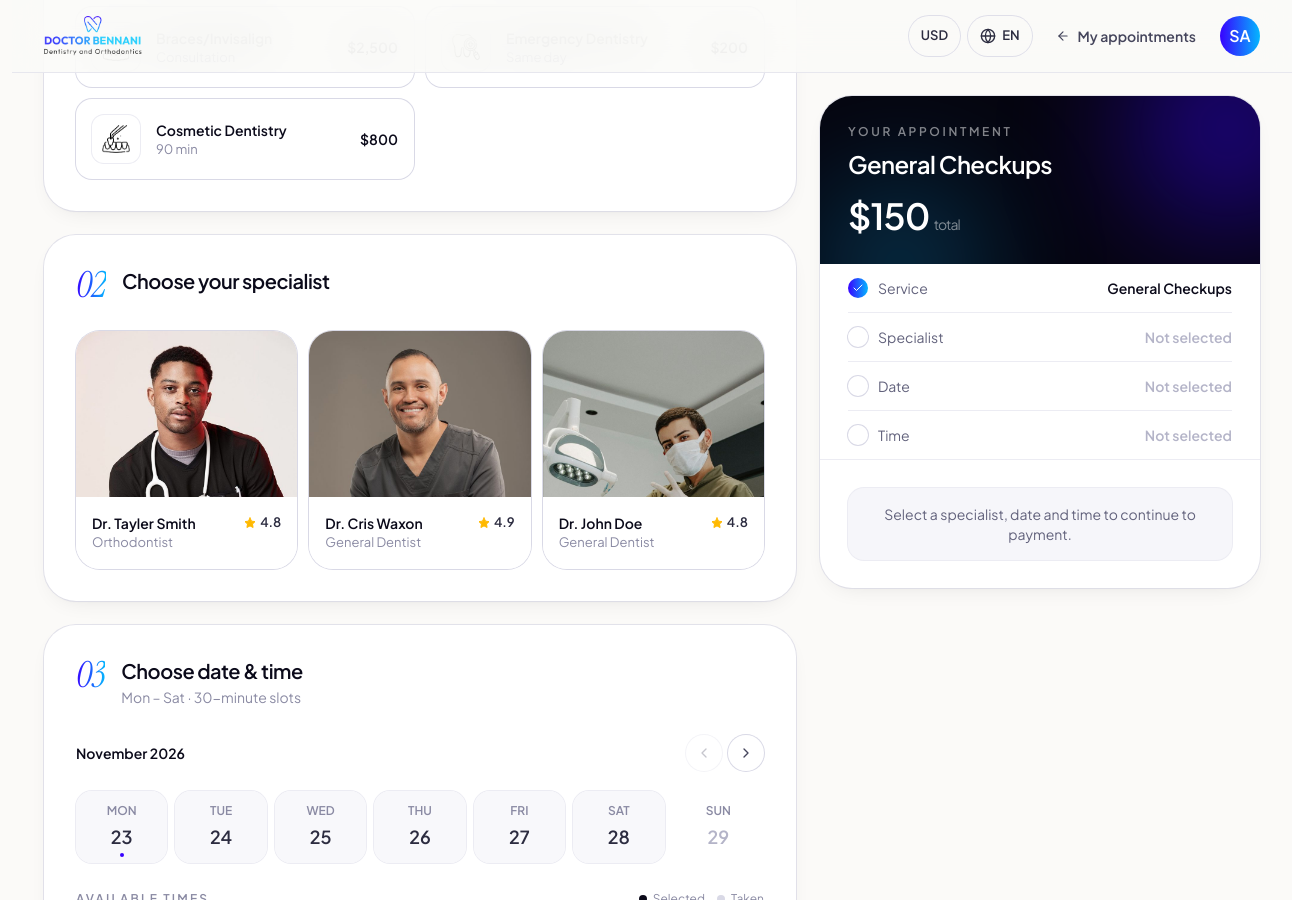
it: booking flow › asks the patient to pick again when the slot was just taken
The image size is (1292, 900).
(page scrolled)
Click the button "Dr. Cris Waxon General Dentist 4.9".
click(420, 450)  # box 309,331 -> 531,569
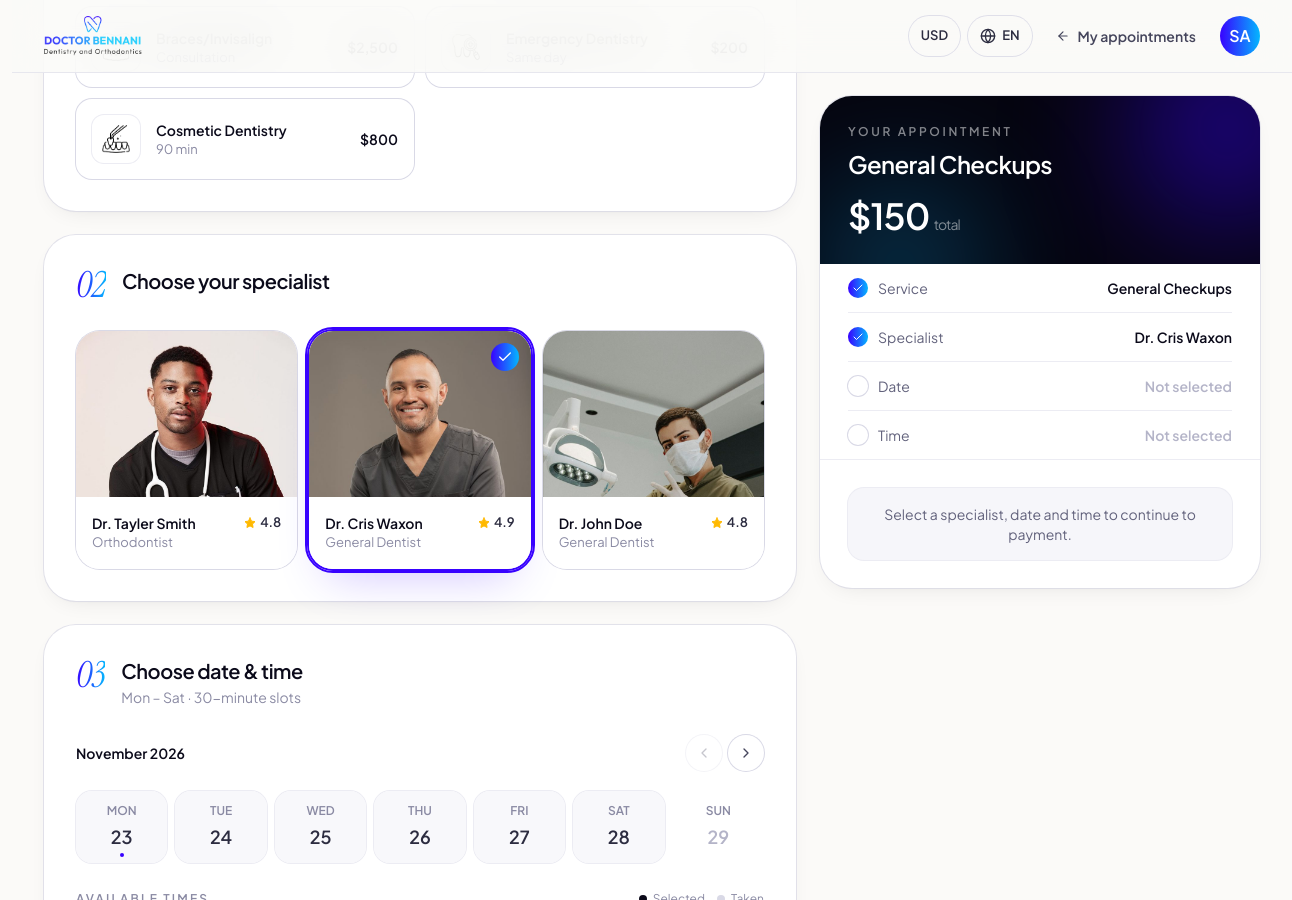
Click the button "Tue 24".
click(221, 827)  # box 175,791 -> 267,863
(page scrolled)
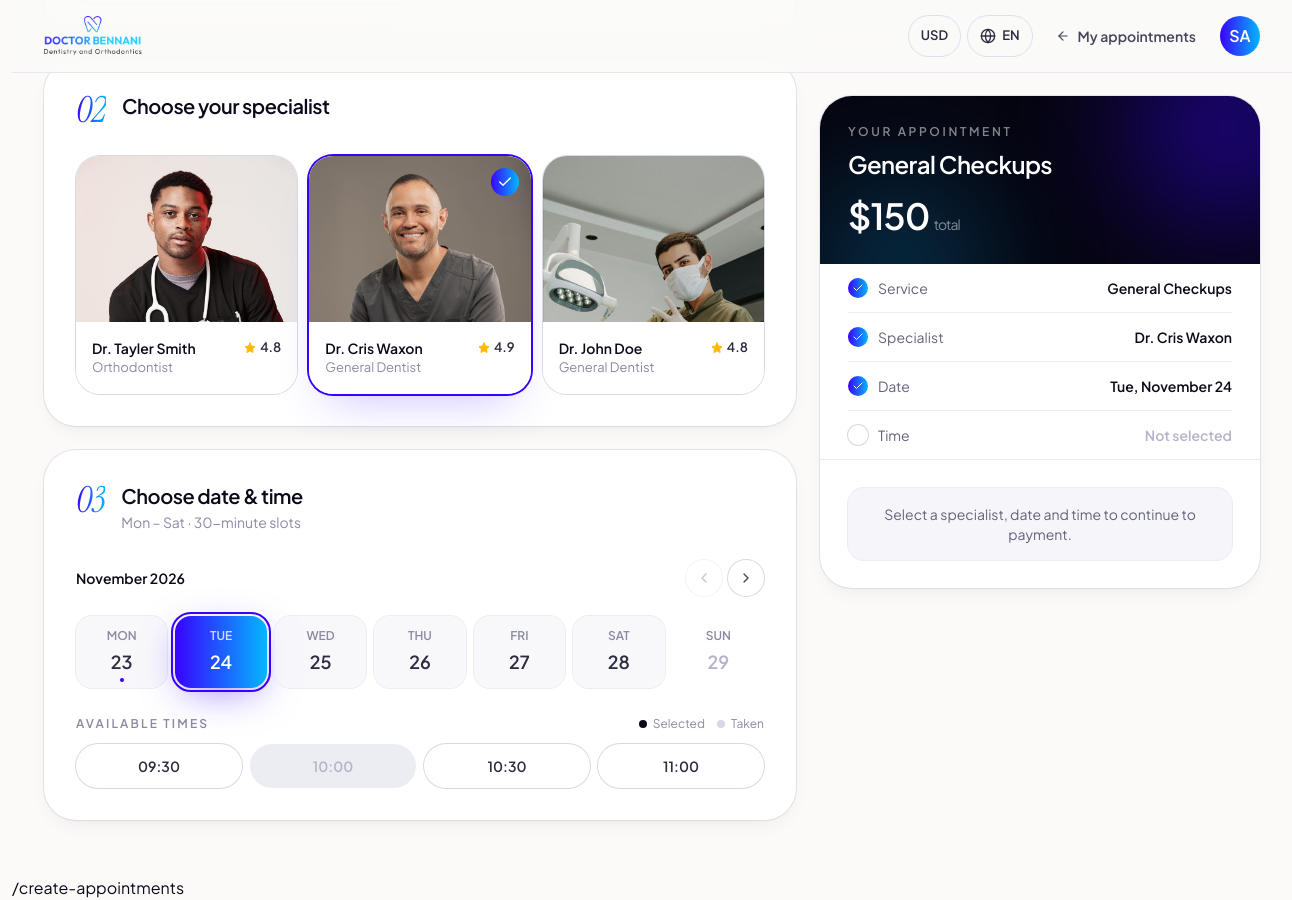
Click the button "10:30".
click(507, 766)  # box 424,744 -> 590,788
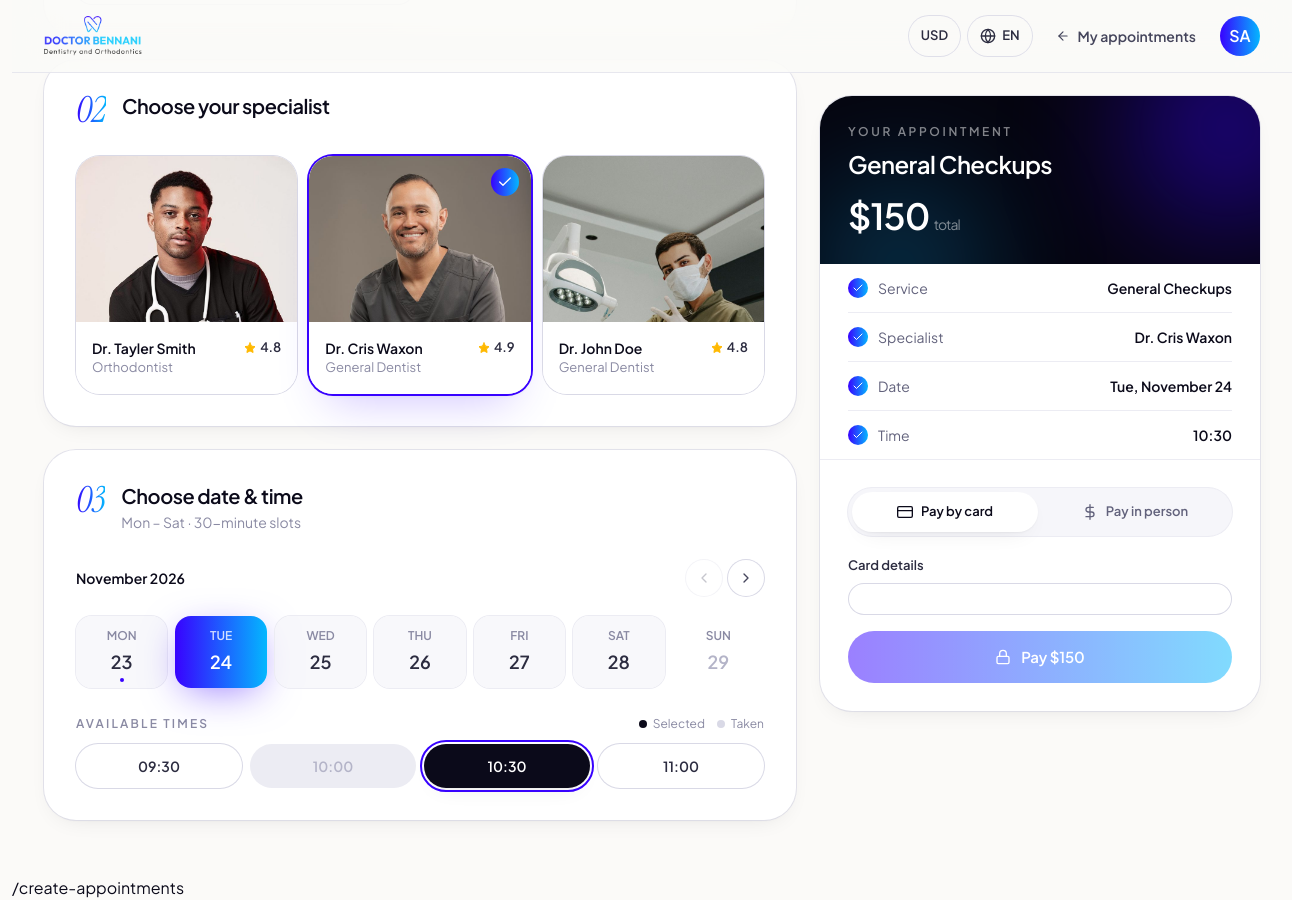
Click the button "Pay in person".
click(1135, 512)  # box 1042,492 -> 1228,532
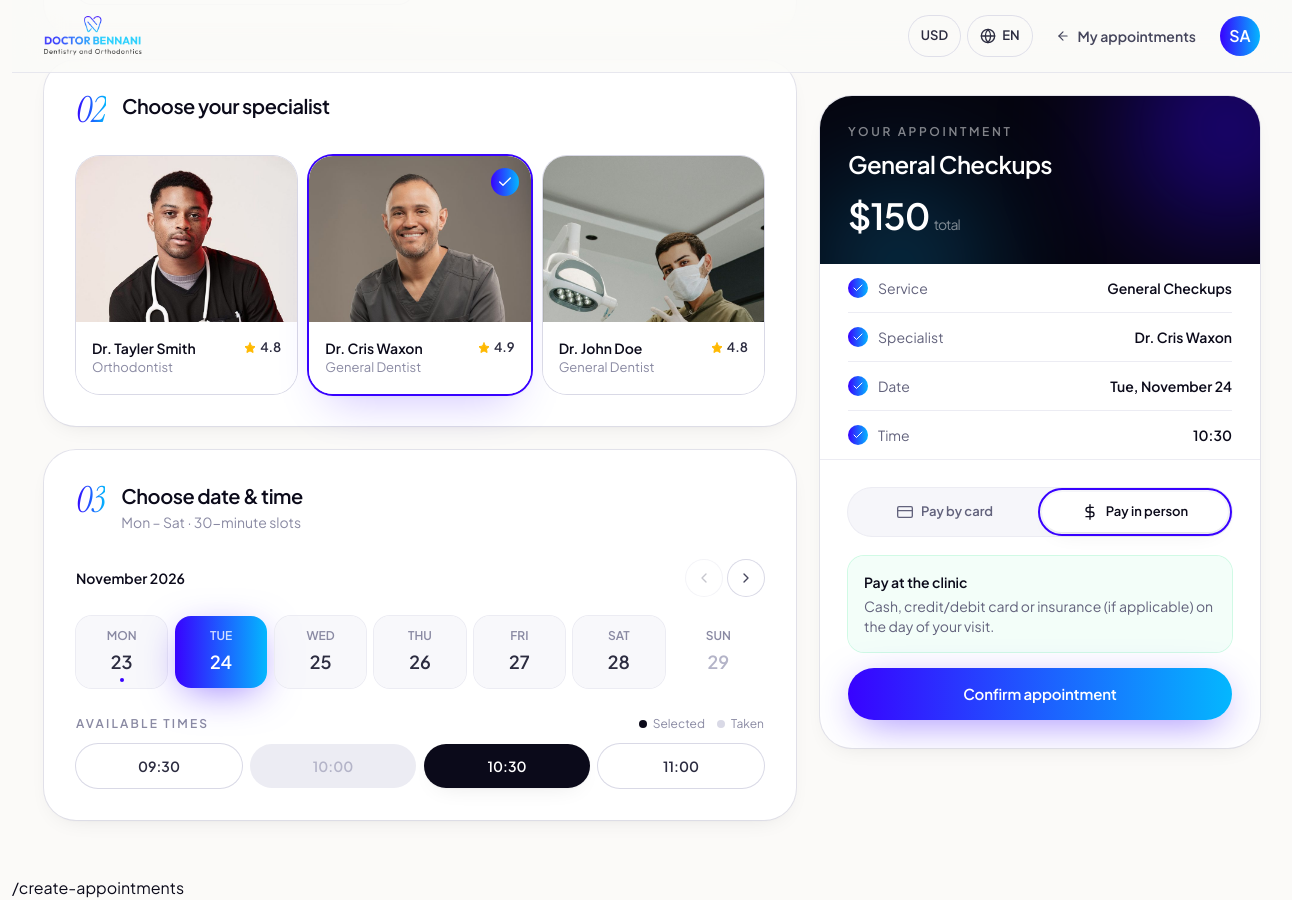
Click the button "Confirm appointment".
click(1040, 694)  # box 848,668 -> 1232,720
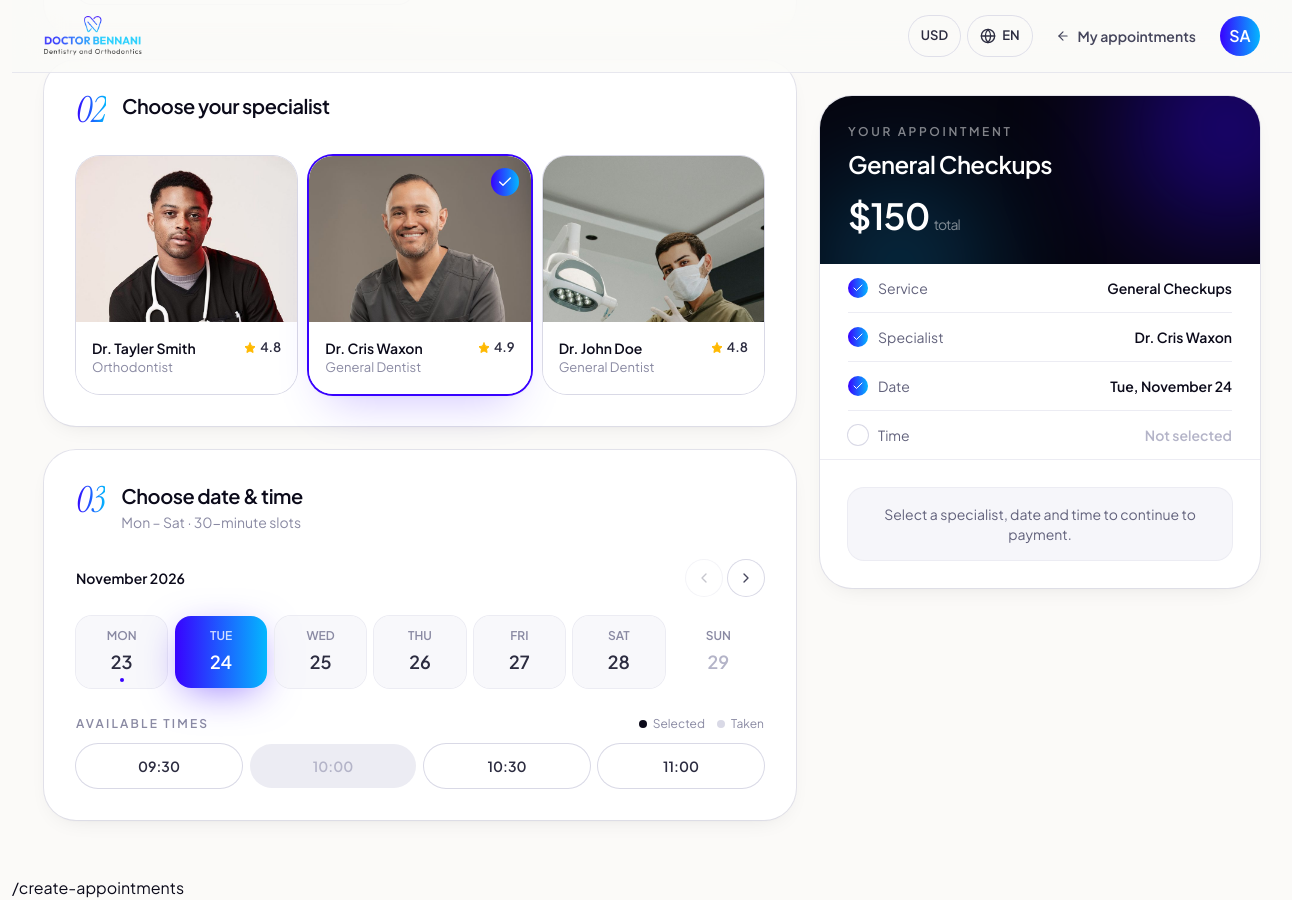
Expected: the text with test id "location" reads "/create-appointments", 12,877 -> 184,898
Now the text "Select a specialist, date and time to continue to payment." is shown, box 848,488 -> 1232,560
